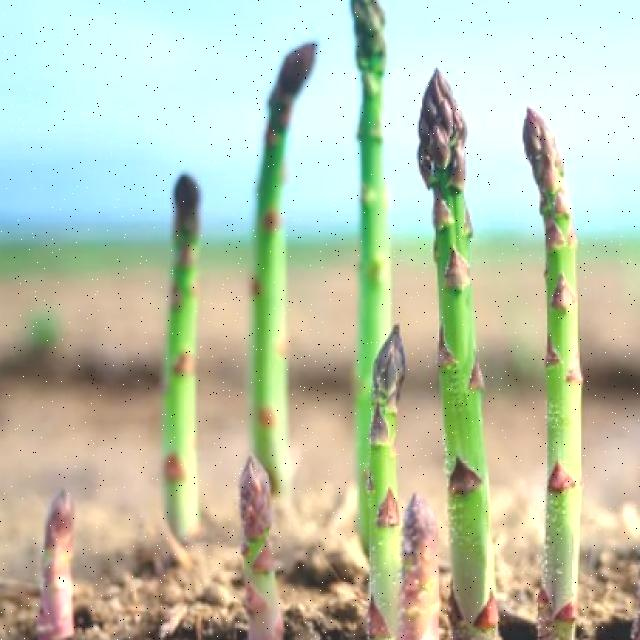aspargus: (418, 70, 501, 640), (522, 108, 582, 640), (248, 41, 317, 495), (160, 175, 201, 540), (238, 457, 285, 640), (239, 457, 283, 640), (35, 489, 75, 640)
